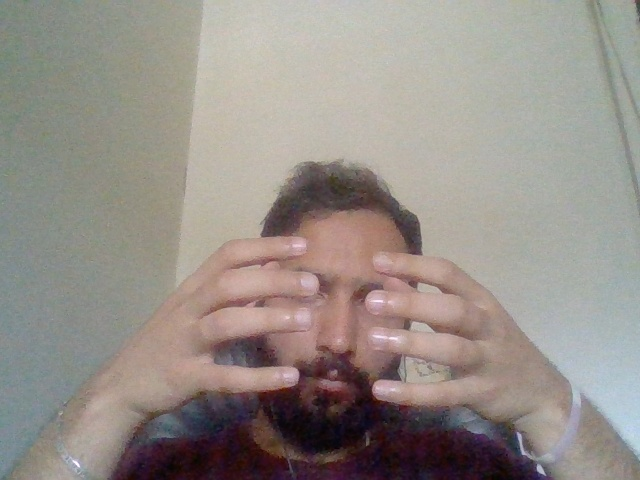Story: (148, 222, 518, 477)
